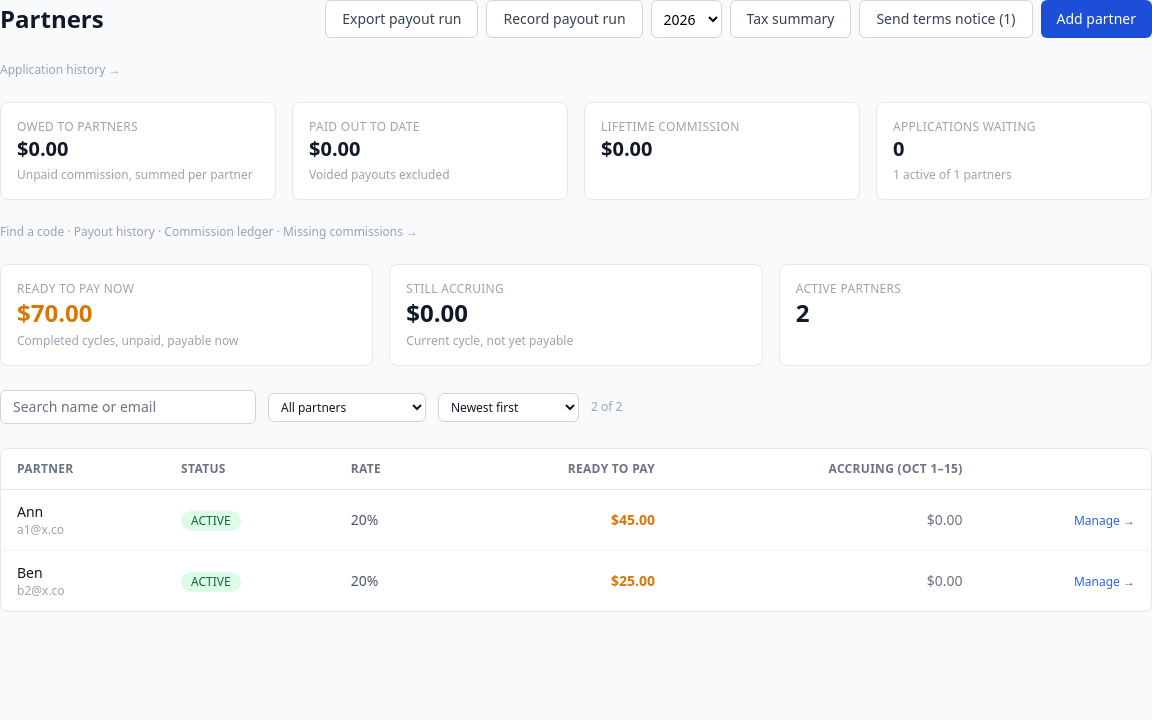
Test case: payout run — partners who have not accepted the current terms › asks for nothing when the server is not enforcing it
The width and height of the screenshot is (1152, 720).
Click the button "Record payout run" at {"x": 565, "y": 19}, box [486,0,643,38]
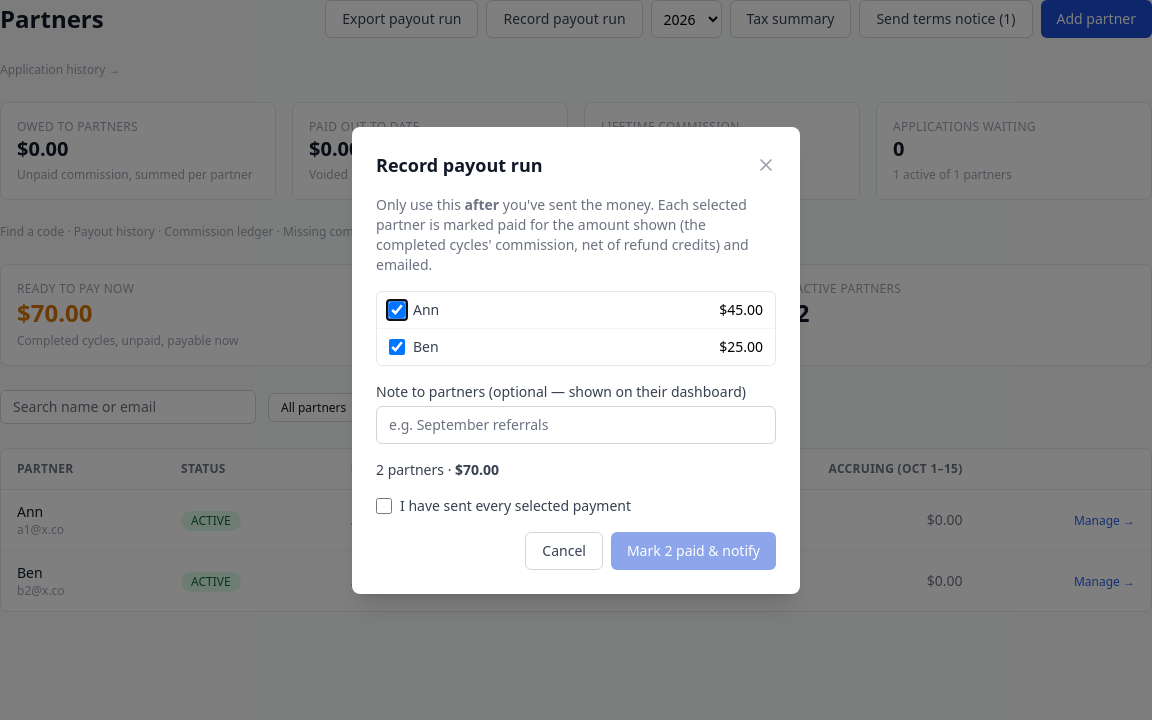
Click the checkbox labelled "I have sent every selected payment" at {"x": 384, "y": 506}, box [376,498,392,514]
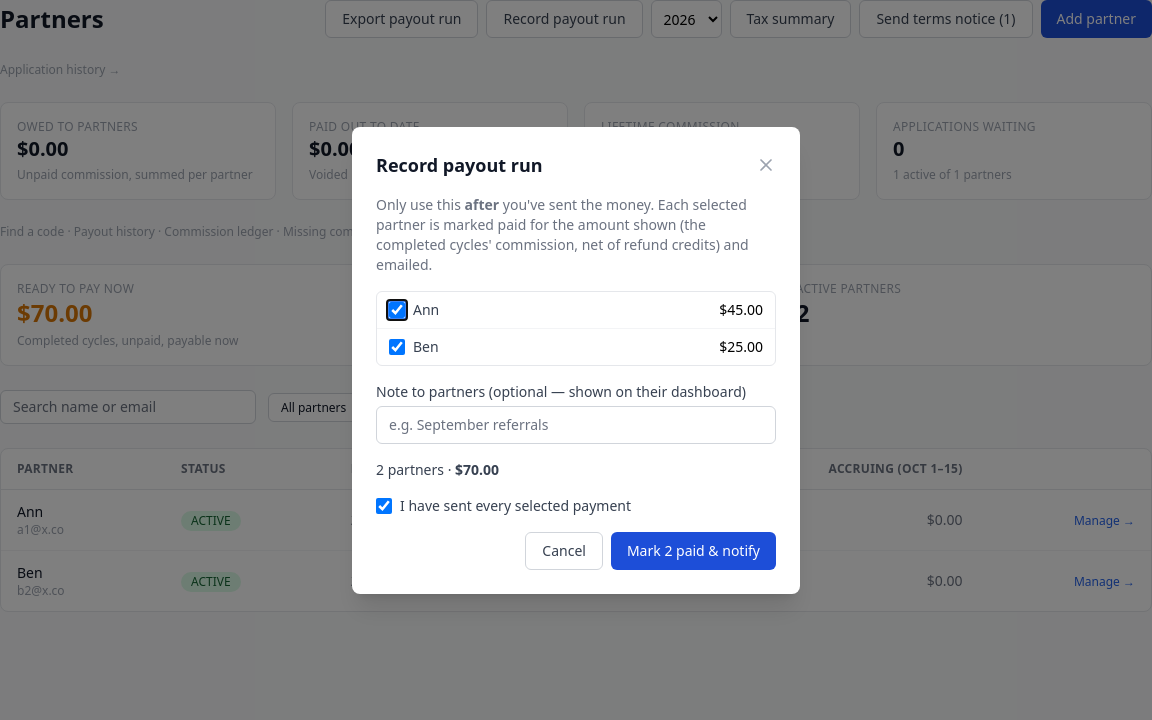
Now the button "Mark 2 paid & notify" is enabled, box [611,532,776,570]
